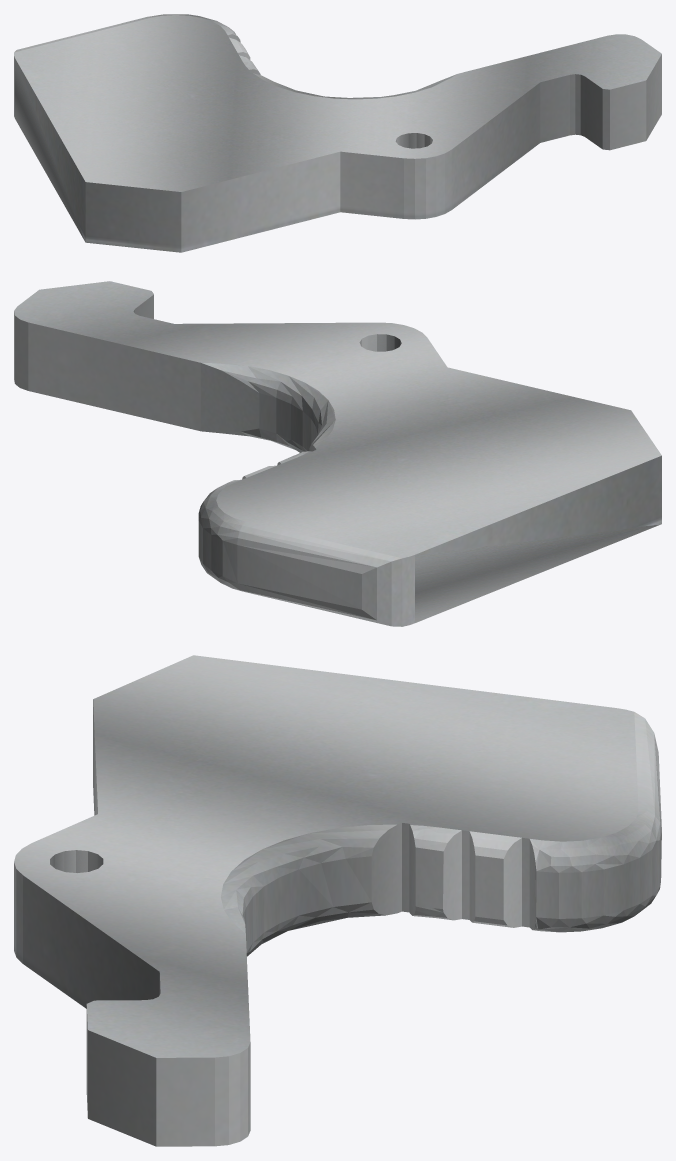
The model's file is Charging_Handle_Latch.dae.
3 renders of one model, top to bottom at view 1: azimuth 30°, elevation 25°; view 2: azimuth 150°, elevation 25°; view 3: azimuth 270°, elevation 25°, orthographic. The views are drawn at different scales.
Parts seen in each view (by area): view 1: Charging_Handle_Latch; view 2: Charging_Handle_Latch; view 3: Charging_Handle_Latch.
Part boxes in pixels (x1,y1,x2,y2): Charging_Handle_Latch: (14,14,661,252); Charging_Handle_Latch: (14,281,661,626); Charging_Handle_Latch: (14,655,661,1146).
Bounding box in the file's own units: 0.0301 × 0.0205 × 0.0031.
Materials: 1 (1 with a texture image).
